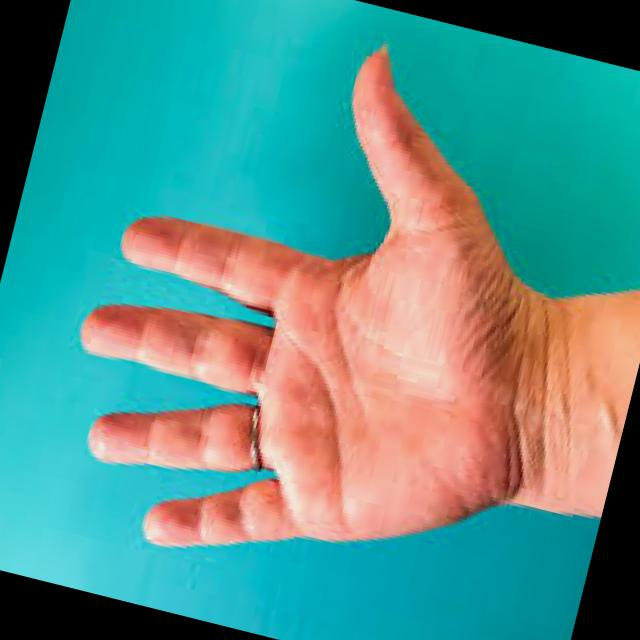Hand: (20, 0, 621, 627)
